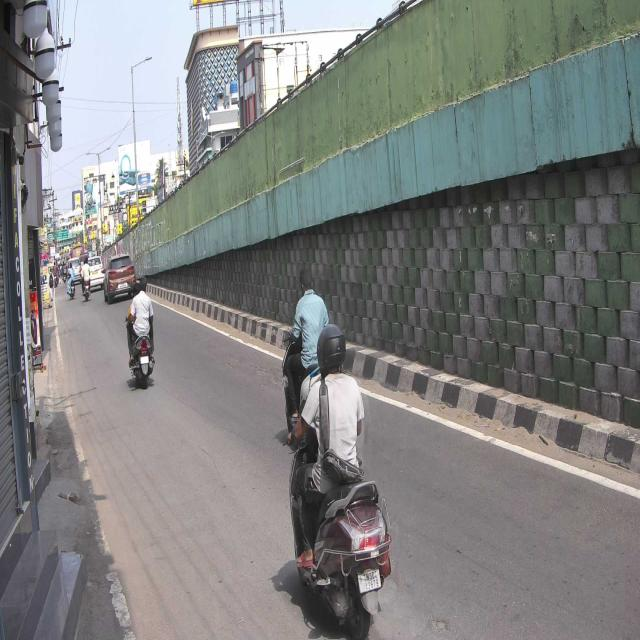single_rider: (288, 322, 394, 640)
